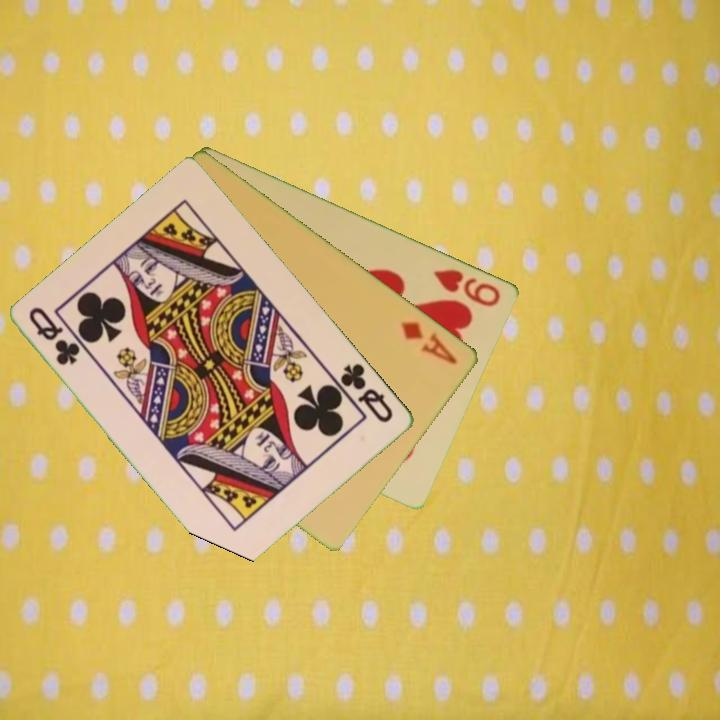9h: (430, 265, 504, 310)
Ad: (398, 317, 461, 368)
Qc: (337, 359, 397, 426), (25, 303, 84, 368)
